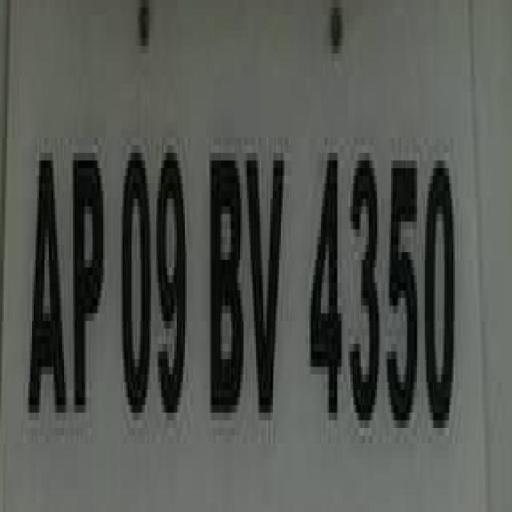number plate: (0, 22, 490, 511)
